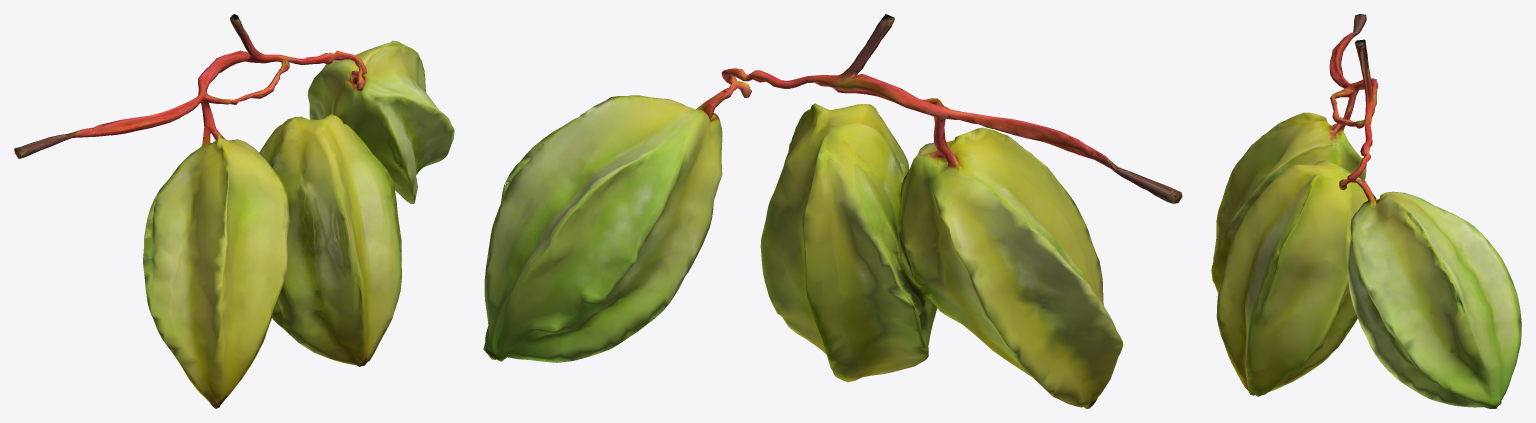
Rendered from arjuna.glb.
3 renders of one model, left to right at view 1: azimuth 30°, elevation 25°; view 2: azimuth 150°, elevation 25°; view 3: azimuth 270°, elevation 25°, orthographic. The views are drawn at different scales.
Size of the model in its own units: 2 by 1.36 by 1.19.
Materials: 1 (1 with a texture image).
